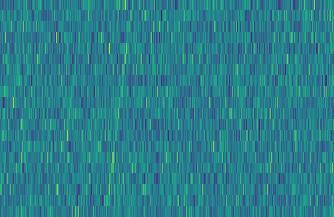signal: (99, 0, 136, 217)
